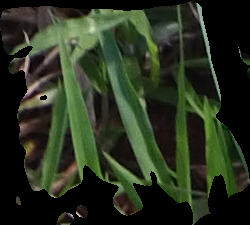grass: (1, 1, 249, 224)
